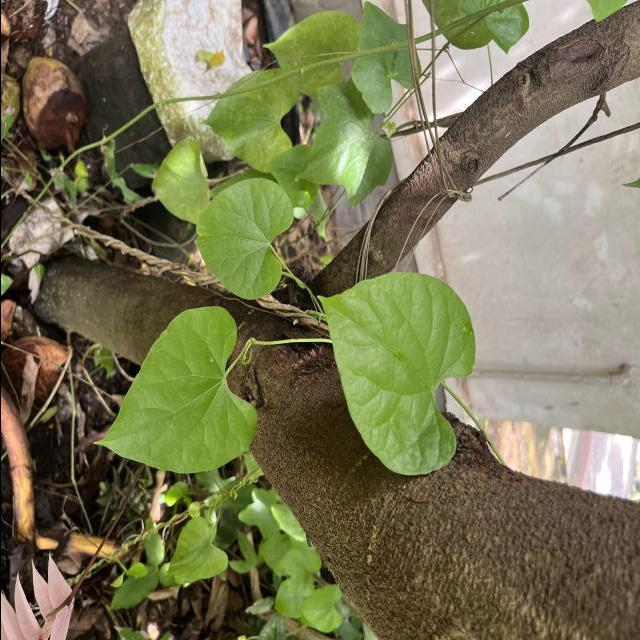Tinospora cordifolia: (312, 267, 478, 480), (87, 302, 260, 478), (192, 175, 296, 302)
